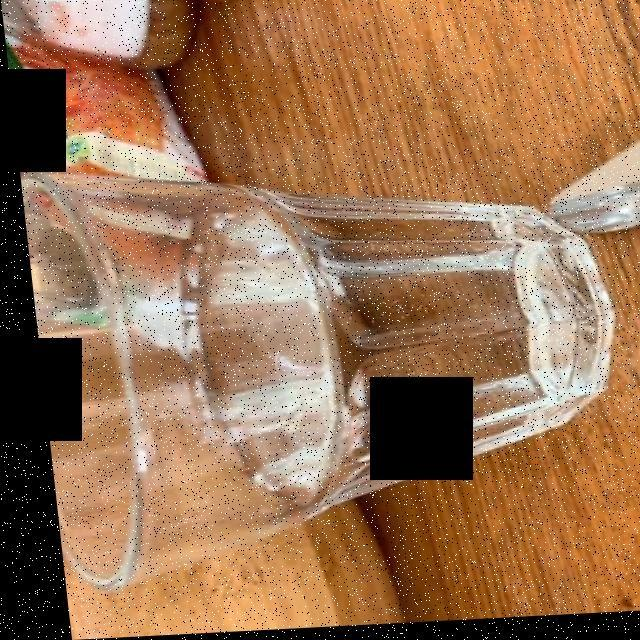water: (50, 180, 574, 545)
